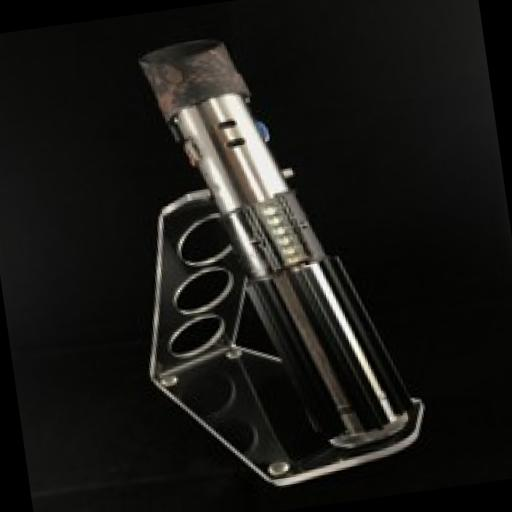lightsaber: (129, 15, 426, 482)
